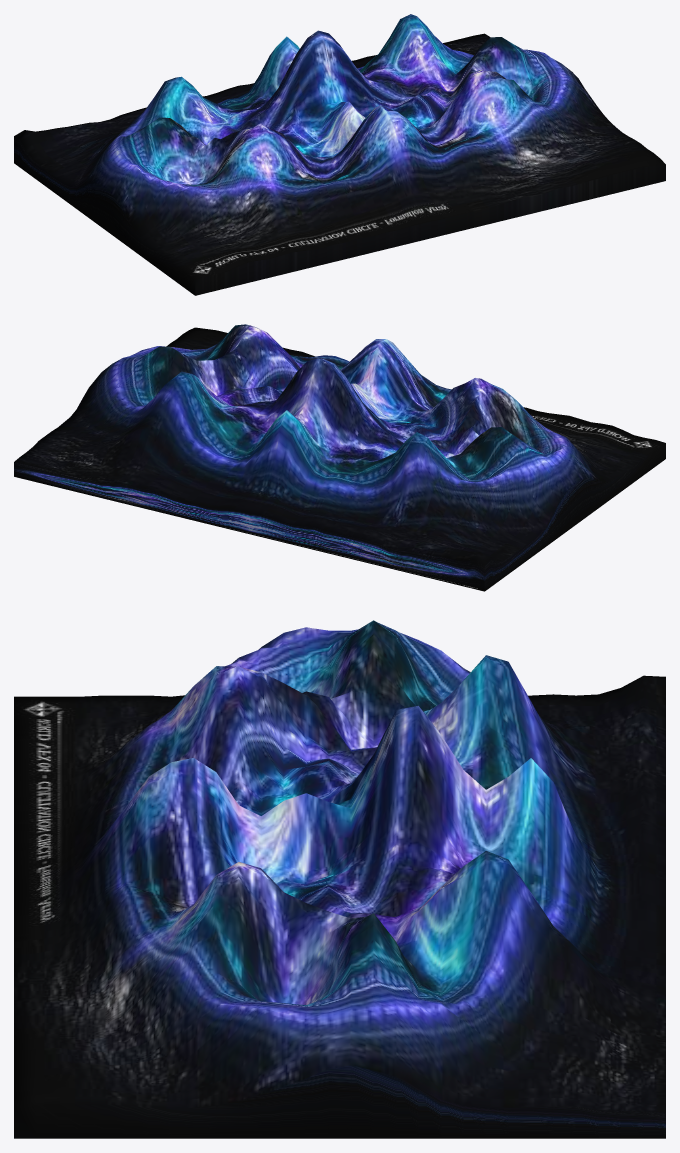
Rendered from WORLD_VFX_04_Cultivation_Circle.glb.
3 renders of one model, top to bottom at view 1: azimuth 30°, elevation 25°; view 2: azimuth 150°, elevation 25°; view 3: azimuth 270°, elevation 25°, orthographic. The views are drawn at different scales.
Parts seen in each view (by area): view 1: WORLD_VFX_04_Cultivation_Circle; view 2: WORLD_VFX_04_Cultivation_Circle; view 3: WORLD_VFX_04_Cultivation_Circle.
Part boxes in pixels (left/top/right/bottom): WORLD_VFX_04_Cultivation_Circle: left=14, top=14, right=665, bottom=295; WORLD_VFX_04_Cultivation_Circle: left=14, top=324, right=665, bottom=591; WORLD_VFX_04_Cultivation_Circle: left=14, top=620, right=665, bottom=1138.
Size of the model in its own units: 2 by 0.51 by 1.33.
1 material, 1 textured.
